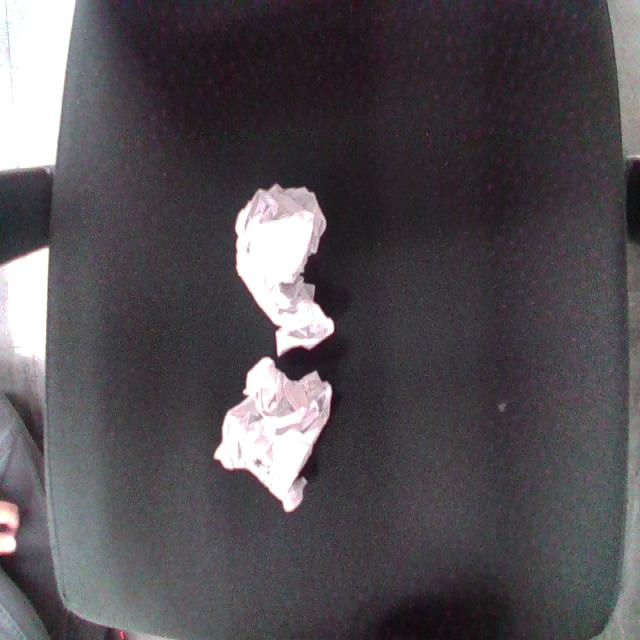paper: (208, 151, 349, 379), (191, 339, 353, 534)
